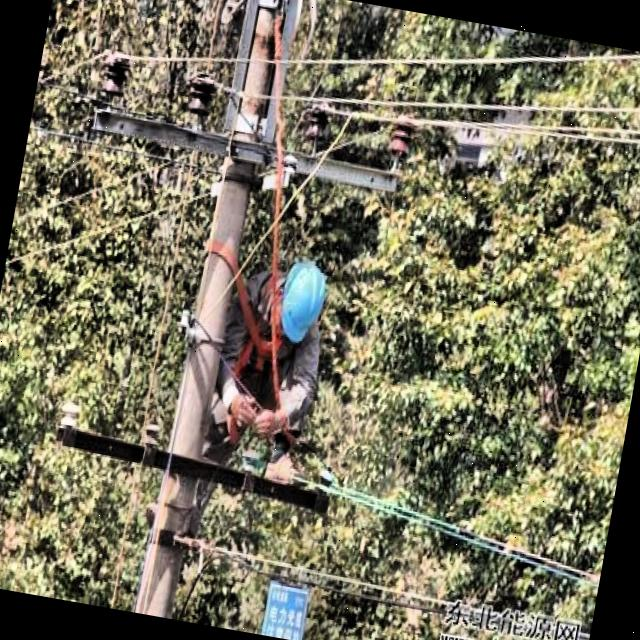helmet: (265, 254, 333, 361)
